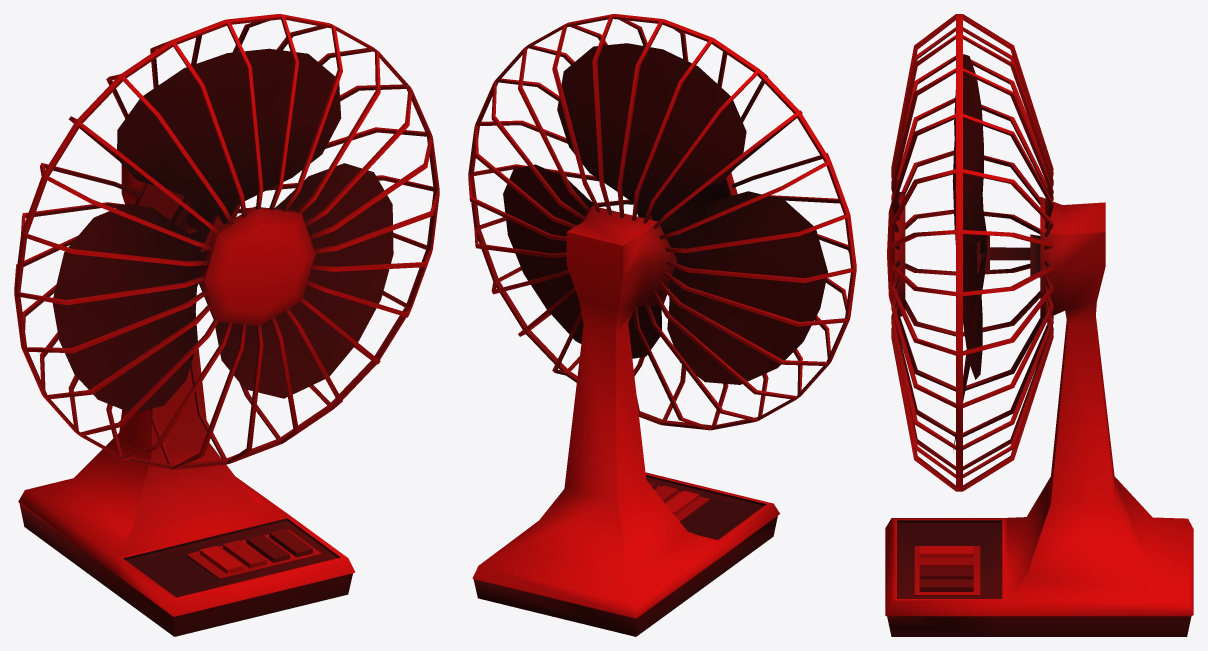
File: Deskfan.glb
The picture shows the model from 3 angles, left to right: view 1: azimuth 30°, elevation 25°; view 2: azimuth 150°, elevation 25°; view 3: azimuth 270°, elevation 25°; orthographic projection. The views are drawn at different scales.
Visible parts, largest first — view 1: Deskfan; view 2: Deskfan; view 3: Deskfan.
Part boxes in pixels (x1=…): Deskfan: x1=14, y1=14, x2=439, y2=636; Deskfan: x1=468, y1=14, x2=856, y2=636; Deskfan: x1=885, y1=14, x2=1193, y2=636.
Bounding box in the file's own units: 1.97 × 2.54 × 1.27.
